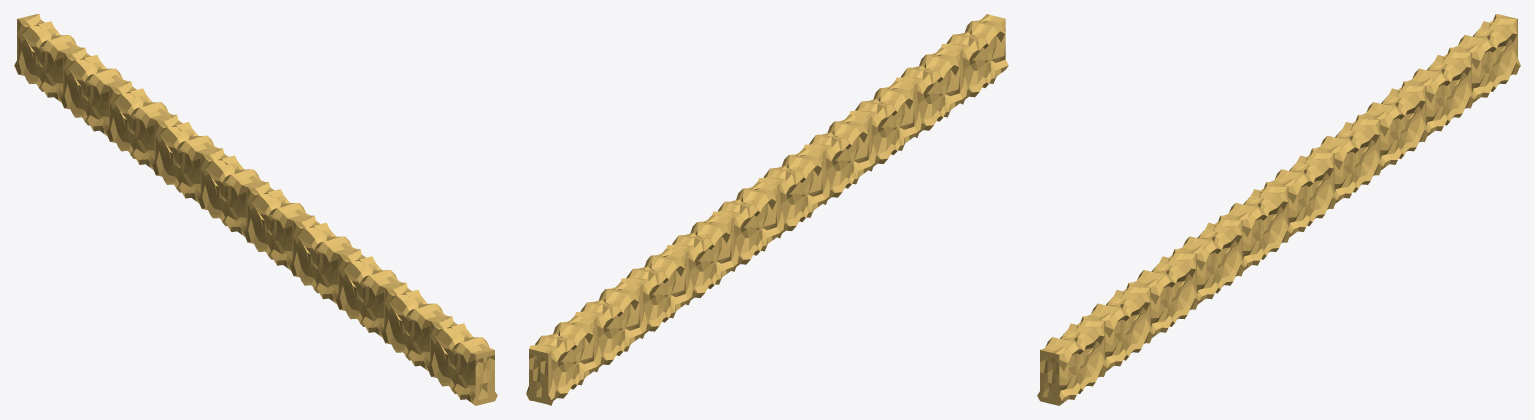
File: Parede_tipo_5.fbx
The picture shows the model from 3 angles, left to right: view 1: azimuth 30°, elevation 25°; view 2: azimuth 150°, elevation 25°; view 3: azimuth 330°, elevation 25°; orthographic projection.
Visible parts, largest first — view 1: Parede tipo 5; view 2: Parede tipo 5; view 3: Parede tipo 5.
Boxes of the visible parts, x1,y1,x2,y2 form: Parede tipo 5: (14,14,497,405); Parede tipo 5: (526,14,1008,405); Parede tipo 5: (1037,14,1520,405).
Size of the model in its own units: 127 by 225 by 3238.
